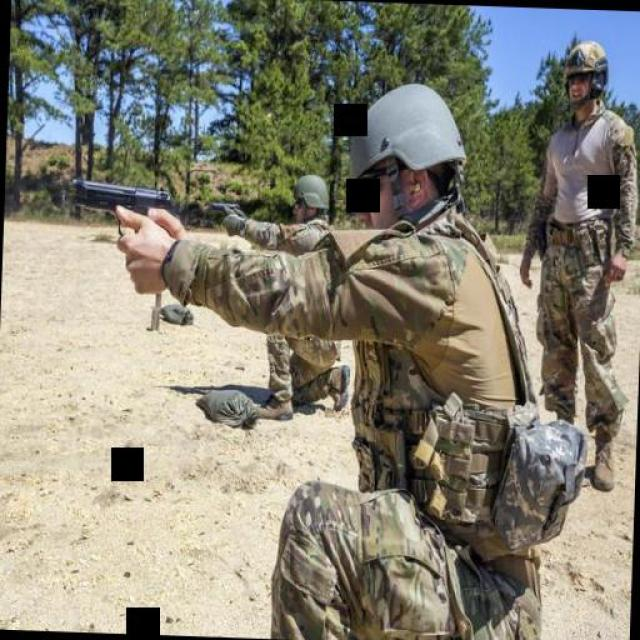gun: (65, 160, 175, 238), (202, 192, 238, 218)
